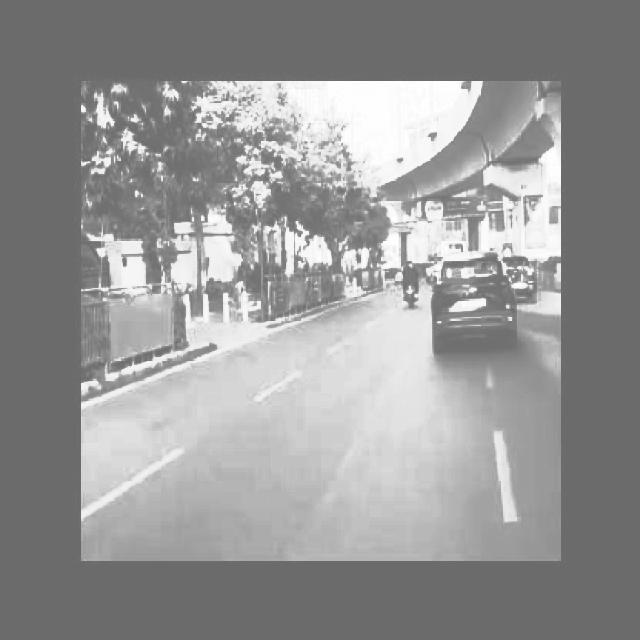Car: (429, 252, 514, 351), (509, 251, 542, 298)
